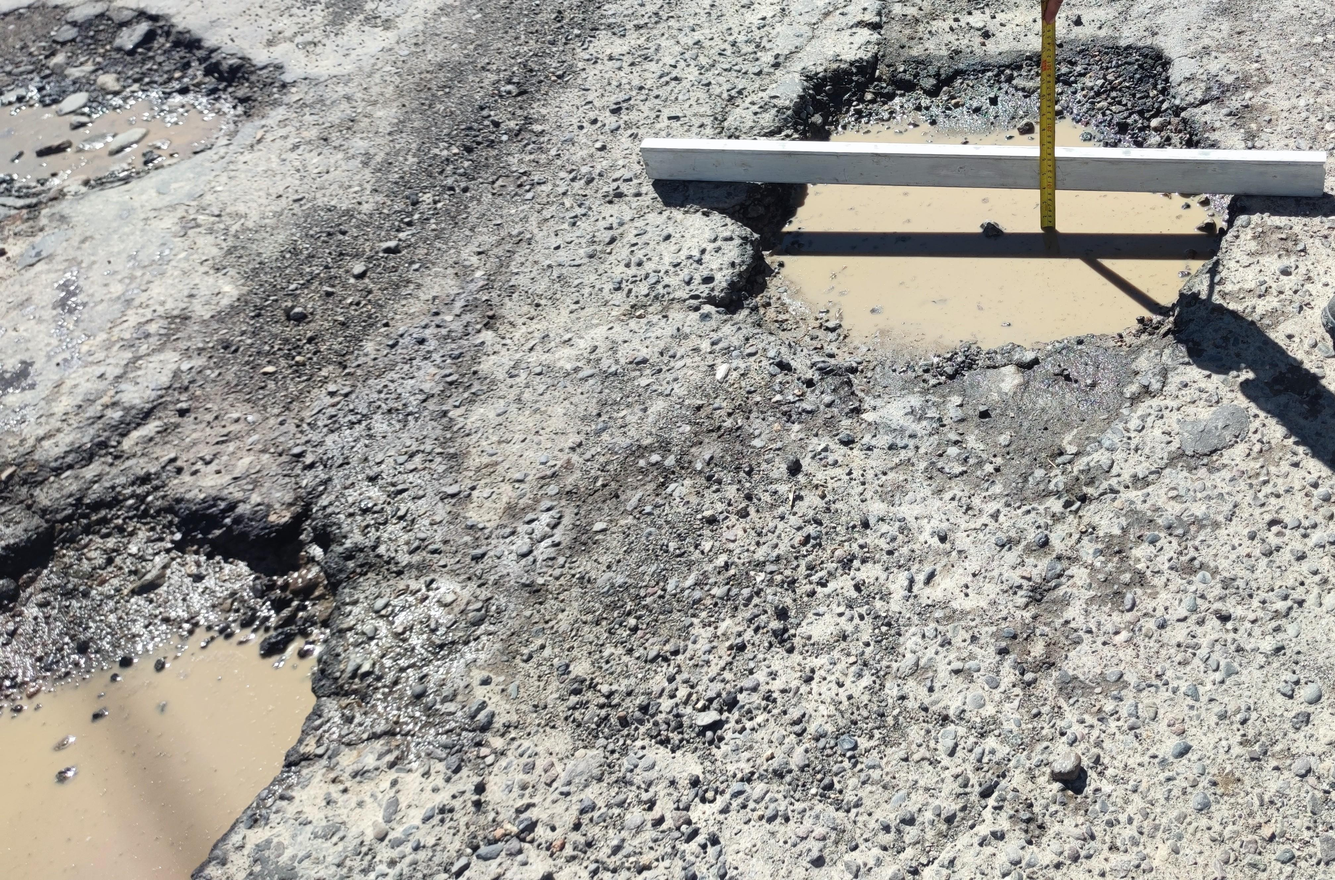BACHE: (0, 490, 345, 880), (731, 182, 1236, 372), (0, 0, 277, 207), (783, 41, 1213, 149)
